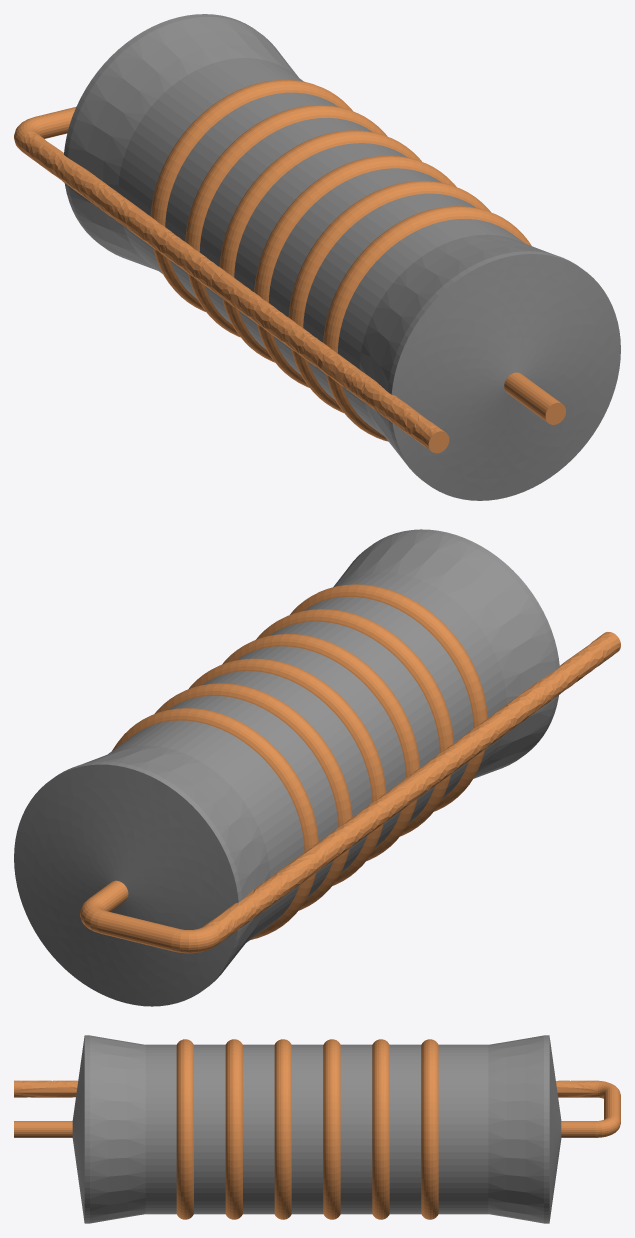
File: L_Axial_L26.0mm_D10.0mm_P5.08mm_Vertical_Fastron_77A.glb
3 views of the same model, one above another, from view 1: azimuth 30°, elevation 25°; view 2: azimuth 150°, elevation 25°; view 3: azimuth 270°, elevation 25° (orthographic). The views are drawn at different scales.
Visible parts, largest first — view 1: Shape_IndexedFaceSet.002, Shape_IndexedFaceSet.007, Shape_IndexedFaceSet.003, Shape_IndexedFaceSet.018, Shape_IndexedFaceSet.014, Shape_IndexedFaceSet.024, Shape_IndexedFaceSet.023, Shape_IndexedFaceSet.019, Shape_IndexedFaceSet.022, Shape_IndexedFaceSet.020, Shape_IndexedFaceSet.021, Shape_IndexedFaceSet.013 (+9 smaller); view 2: Shape_IndexedFaceSet.005, Shape_IndexedFaceSet.014, Shape_IndexedFaceSet.003, Shape_IndexedFaceSet.018, Shape_IndexedFaceSet.007, Shape_IndexedFaceSet.019, Shape_IndexedFaceSet.022, Shape_IndexedFaceSet.021, Shape_IndexedFaceSet.020, Shape_IndexedFaceSet.023, Shape_IndexedFaceSet.024, Shape_IndexedFaceSet.008 (+10 smaller); view 3: Shape_IndexedFaceSet.014, Shape_IndexedFaceSet.007, Shape_IndexedFaceSet.018, Shape_IndexedFaceSet.019, Shape_IndexedFaceSet.020, Shape_IndexedFaceSet.021, Shape_IndexedFaceSet.022, Shape_IndexedFaceSet.023, Shape_IndexedFaceSet.024, Shape_IndexedFaceSet.012, Shape_IndexedFaceSet.011, Shape_IndexedFaceSet.013 (+12 smaller).
Boxes of the visible parts, x1,y1,x2,y2 form: Shape_IndexedFaceSet.002: (391,254,620,500); Shape_IndexedFaceSet.007: (67,17,298,270); Shape_IndexedFaceSet.003: (18,131,444,450); Shape_IndexedFaceSet.018: (118,58,303,273); Shape_IndexedFaceSet.014: (359,234,553,460); Shape_IndexedFaceSet.024: (337,218,524,435); Shape_IndexedFaceSet.023: (303,193,476,400); Shape_IndexedFaceSet.019: (165,92,338,299); Shape_IndexedFaceSet.022: (268,168,441,374); Shape_IndexedFaceSet.020: (200,117,372,324); Shape_IndexedFaceSet.021: (234,143,406,349); Shape_IndexedFaceSet.013: (323,206,531,441); Shape_IndexedFaceSet.005: (14,764,238,1006); Shape_IndexedFaceSet.014: (333,532,555,778); Shape_IndexedFaceSet.003: (204,632,620,945); Shape_IndexedFaceSet.018: (108,720,304,942); Shape_IndexedFaceSet.007: (79,745,269,966); Shape_IndexedFaceSet.019: (169,696,338,897); Shape_IndexedFaceSet.022: (270,621,439,823); Shape_IndexedFaceSet.021: (236,646,405,848); Shape_IndexedFaceSet.020: (203,671,371,873); Shape_IndexedFaceSet.023: (304,597,473,799); Shape_IndexedFaceSet.024: (338,572,506,774); Shape_IndexedFaceSet.008: (112,708,318,939); Shape_IndexedFaceSet.014: (90,1035,145,1223); Shape_IndexedFaceSet.007: (488,1035,543,1223); Shape_IndexedFaceSet.018: (438,1044,488,1214); Shape_IndexedFaceSet.019: (389,1044,421,1214); Shape_IndexedFaceSet.020: (340,1044,372,1214); Shape_IndexedFaceSet.021: (291,1044,323,1214); Shape_IndexedFaceSet.022: (243,1044,274,1214); Shape_IndexedFaceSet.023: (194,1044,225,1214); Shape_IndexedFaceSet.024: (145,1044,176,1214); Shape_IndexedFaceSet.012: (225,1039,242,1219); Shape_IndexedFaceSet.011: (274,1039,291,1219); Shape_IndexedFaceSet.013: (176,1039,193,1219).
Bounding box in the file's own units: 4.15 × 3.94 × 12.7.
